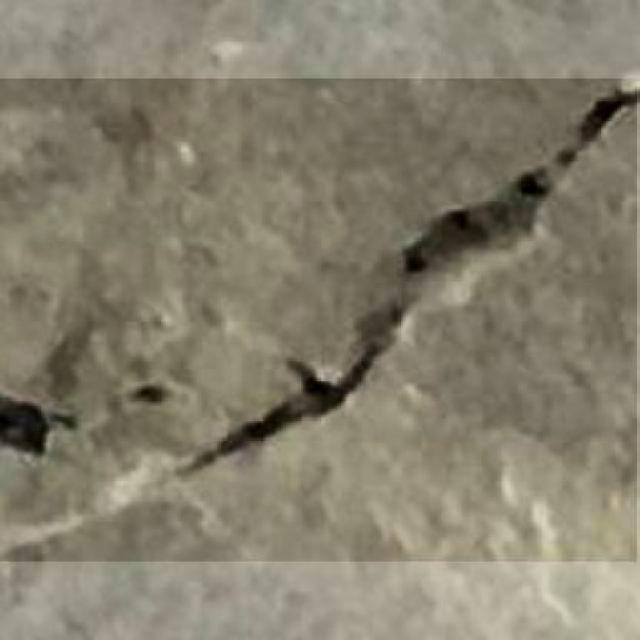SurfaceCrack: (0, 80, 638, 542)
